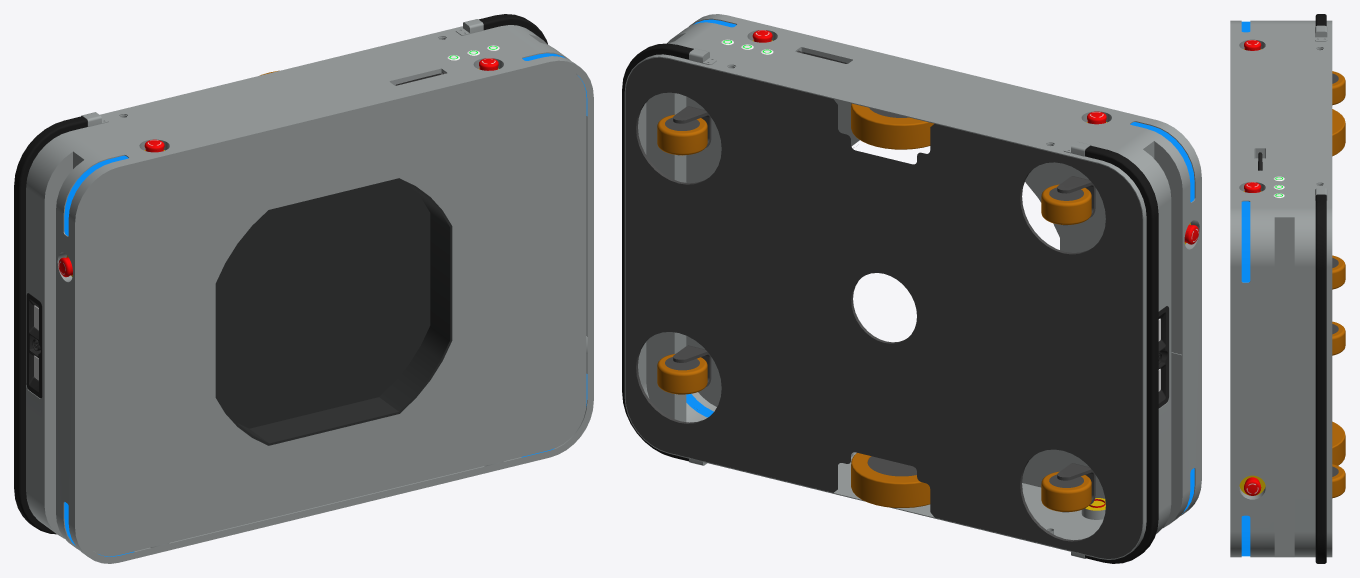
File: robot.glb
The picture shows the model from 3 angles, left to right: view 1: azimuth 30°, elevation 25°; view 2: azimuth 150°, elevation 25°; view 3: azimuth 270°, elevation 25°; orthographic projection. The views are drawn at different scales.
Visible parts, largest first — view 1: F001; view 2: F001; view 3: F001.
Part boxes in pixels (x1,y1,x2,y2): F001: (14, 14, 593, 563); F001: (622, 14, 1201, 563); F001: (1230, 14, 1345, 563).
Bounding box in the file's own units: 1.21 × 0.892 × 0.26.
14 materials, 1 textured.
